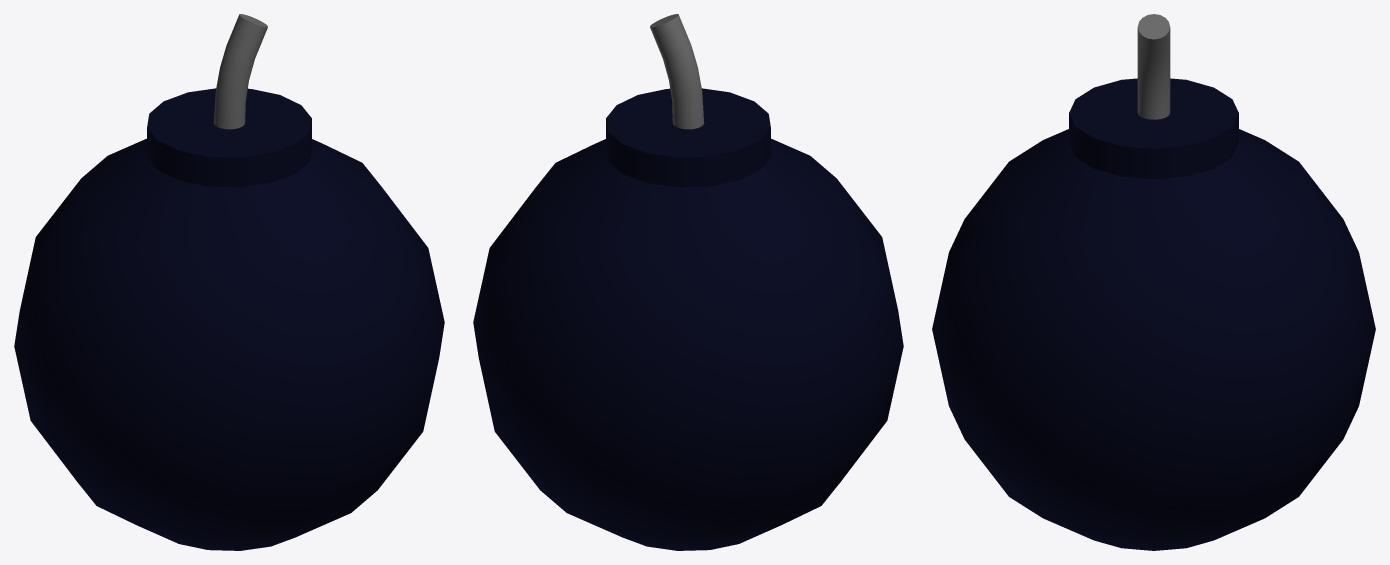
Rendered from bomb.glb.
3 renders of one model, left to right at view 1: azimuth 30°, elevation 25°; view 2: azimuth 150°, elevation 25°; view 3: azimuth 270°, elevation 25°, orthographic. The views are drawn at different scales.
Parts seen in each view (by area): view 1: Bomb; view 2: Bomb; view 3: Bomb.
Part boxes in pixels (x1=…): Bomb: x1=14, y1=14, x2=444, y2=550; Bomb: x1=473, y1=14, x2=903, y2=550; Bomb: x1=932, y1=14, x2=1375, y2=550.
Size of the model in its own units: 2 by 2.6 by 2.
